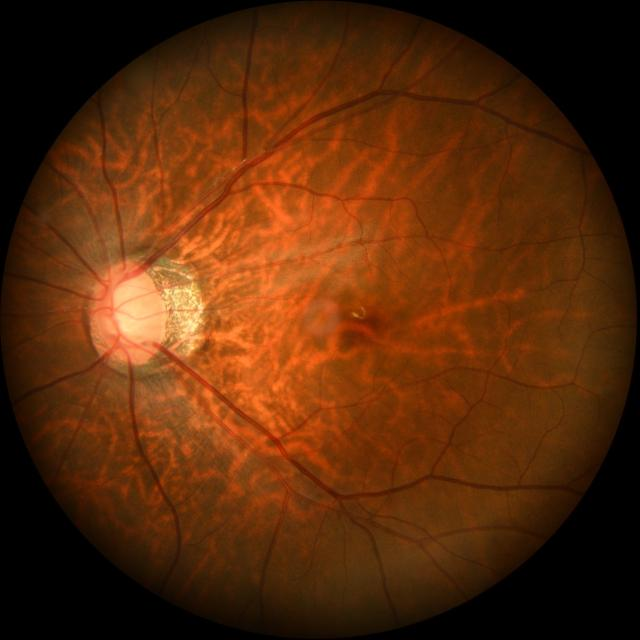OC: (110, 278, 152, 342)
OD: (89, 261, 164, 364)
